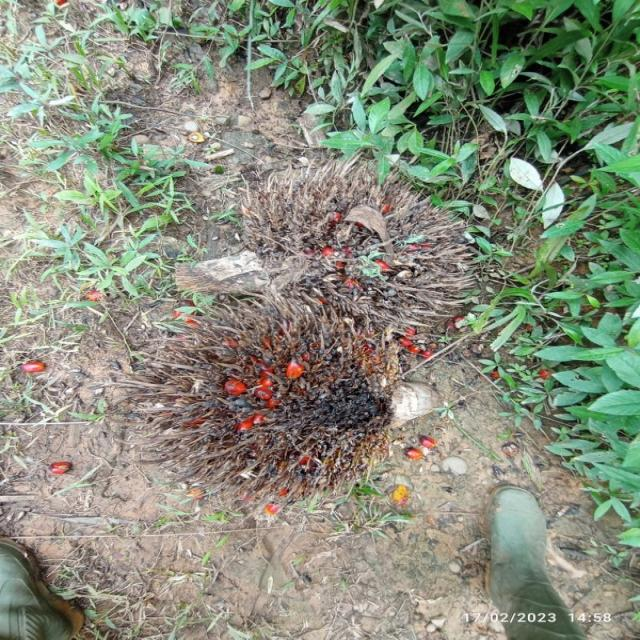fraksi 4: (107, 283, 437, 526)
